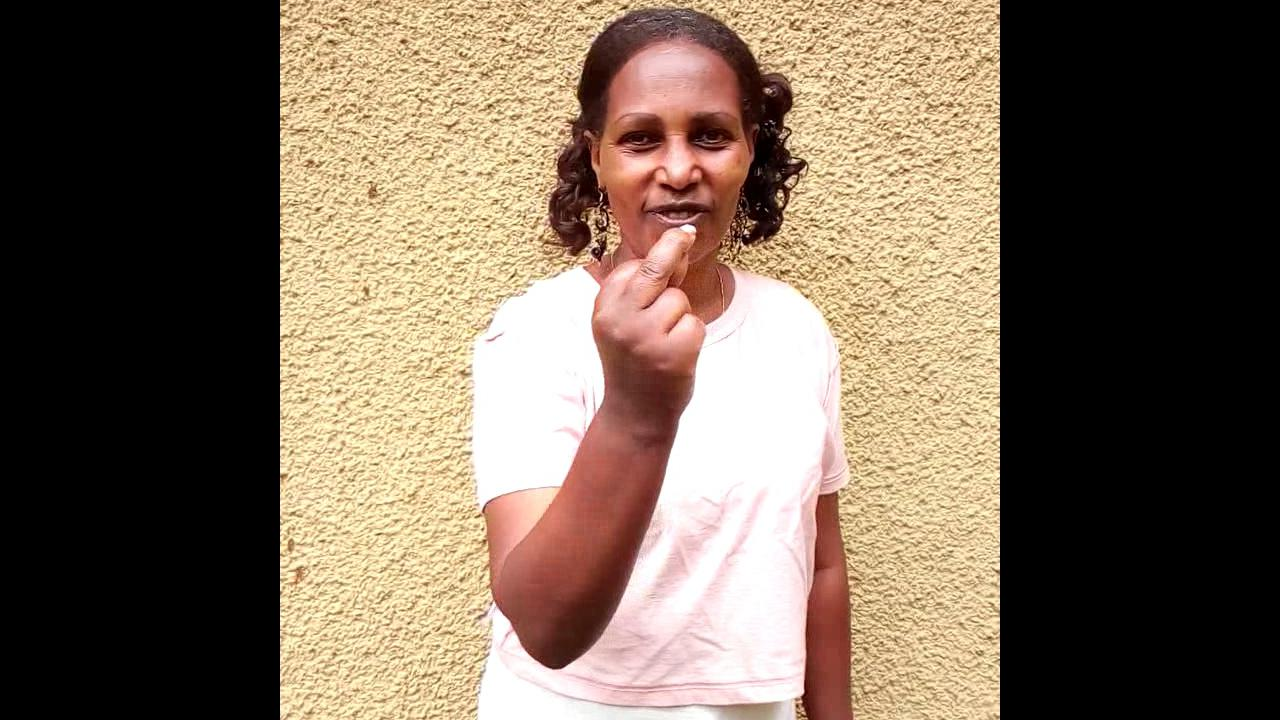CHE: (590, 224, 708, 503)
